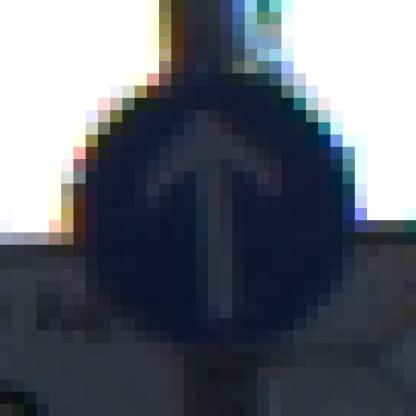AheadOnly: (62, 62, 356, 356)
